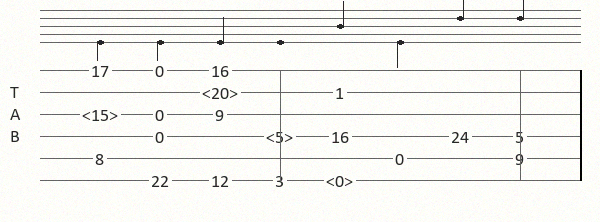0: (155, 63, 168, 78), (155, 107, 168, 122), (155, 129, 168, 144), (395, 151, 408, 166)
1: (335, 85, 348, 100)
12: (211, 173, 233, 188)
16: (211, 63, 233, 78), (331, 129, 353, 144)
17: (91, 63, 113, 78)
22: (151, 173, 173, 188)
24: (451, 129, 473, 144)
3: (275, 173, 288, 188)
5: (515, 129, 528, 144)
8: (95, 151, 108, 166)
9: (215, 107, 228, 122), (515, 151, 528, 166)
harmonic: (82, 107, 122, 122), (202, 85, 242, 100), (266, 129, 297, 144), (326, 173, 357, 188)
